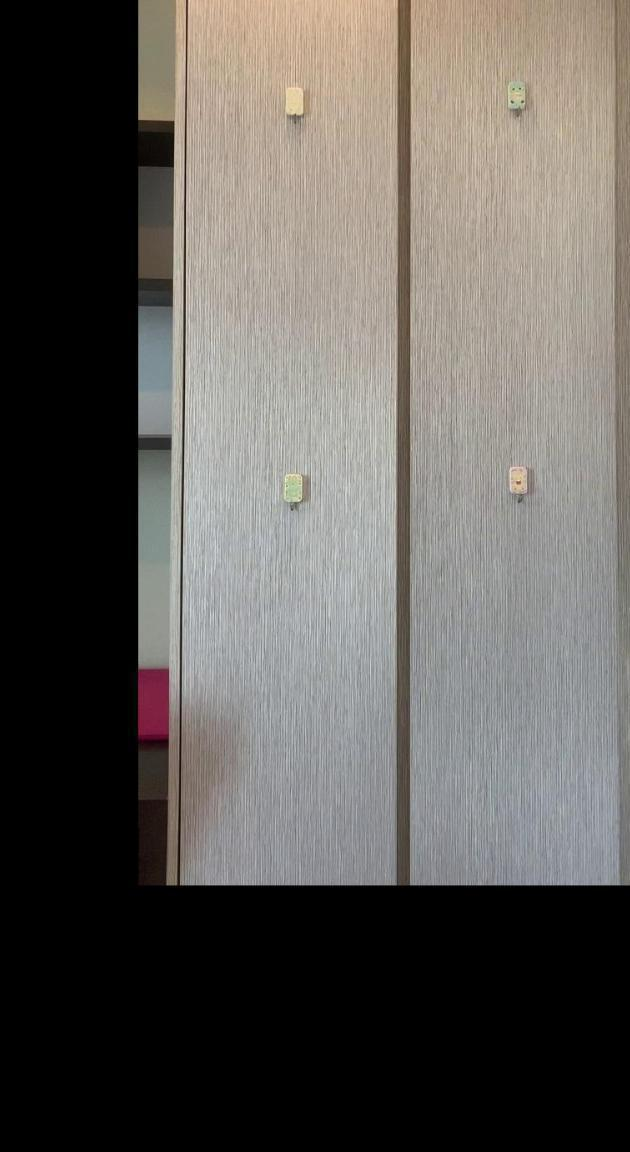Armario: (174, 0, 630, 875)
